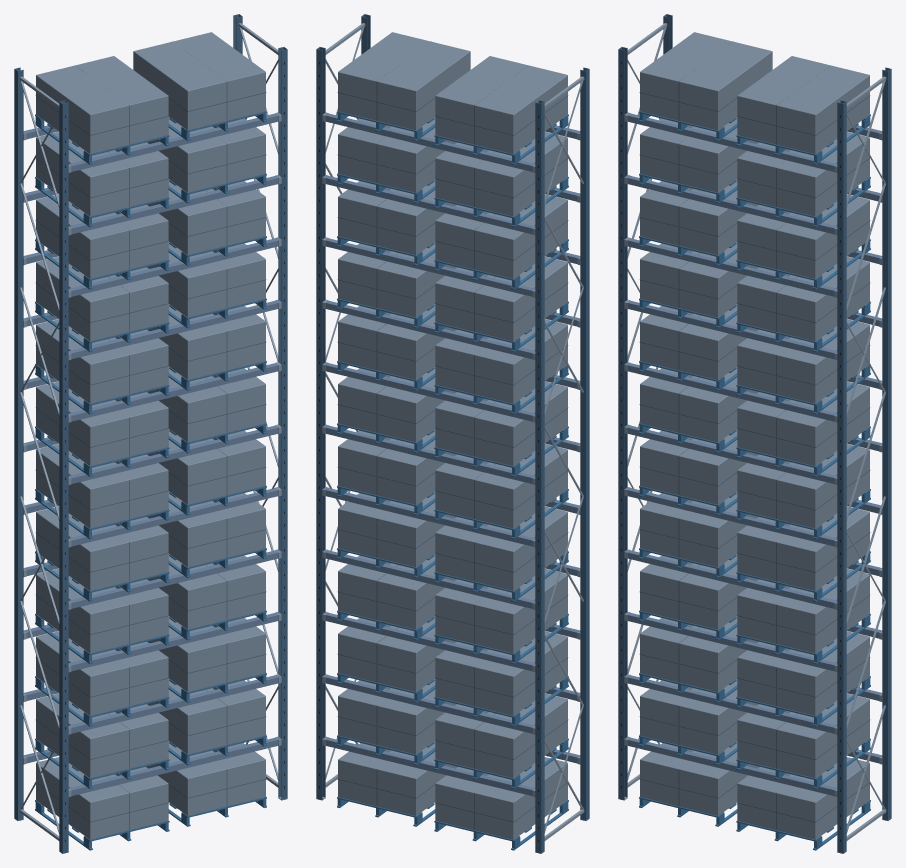
The model's file is SM_GHS_CADRack_B_W28743.fbx.
3 renders of one model, left to right at view 1: azimuth 30°, elevation 25°; view 2: azimuth 150°, elevation 25°; view 3: azimuth 330°, elevation 25°, orthographic.
Visible parts, largest first — view 1: SM_GHS_CADRack_B_W28743; view 2: SM_GHS_CADRack_B_W28743; view 3: SM_GHS_CADRack_B_W28743.
Part boxes in pixels (x1,y1,x2,y2): SM_GHS_CADRack_B_W28743: (14, 14, 287, 853); SM_GHS_CADRack_B_W28743: (316, 14, 589, 853); SM_GHS_CADRack_B_W28743: (618, 14, 891, 853).
Bounding box in the file's own units: 287 × 122 × 915.
